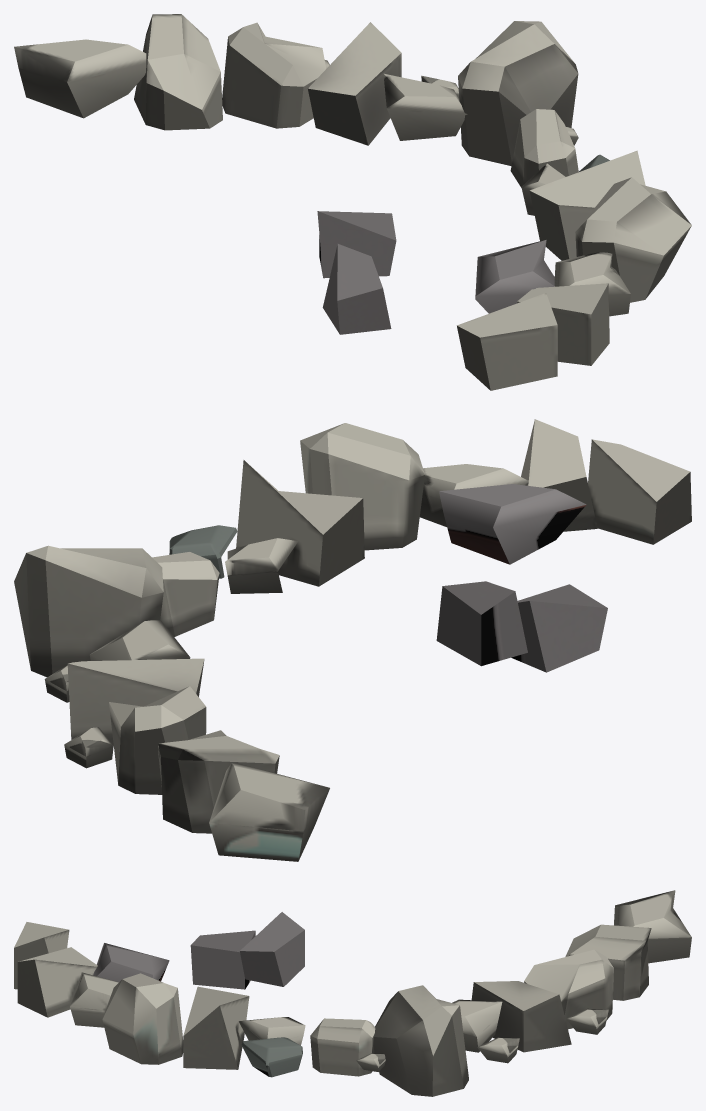
File: Tx_prop_rocks_26.fbx
The picture shows the model from 3 angles, top to bottom: view 1: azimuth 30°, elevation 25°; view 2: azimuth 150°, elevation 25°; view 3: azimuth 270°, elevation 25°; orthographic projection. The views are drawn at different scales.
Parts seen in each view (by area): view 1: Tx_prop_rocks_10; view 2: Tx_prop_rocks_10; view 3: Tx_prop_rocks_10.
Part boxes in pixels (x1=…): Tx_prop_rocks_10: x1=14, y1=14, x2=691, y2=390; Tx_prop_rocks_10: x1=14, y1=419, x2=691, y2=861; Tx_prop_rocks_10: x1=14, y1=890, x2=691, y2=1096.
Size of the model in its own units: 5.52 by 1.52 by 9.84.
1 material, 1 textured.
